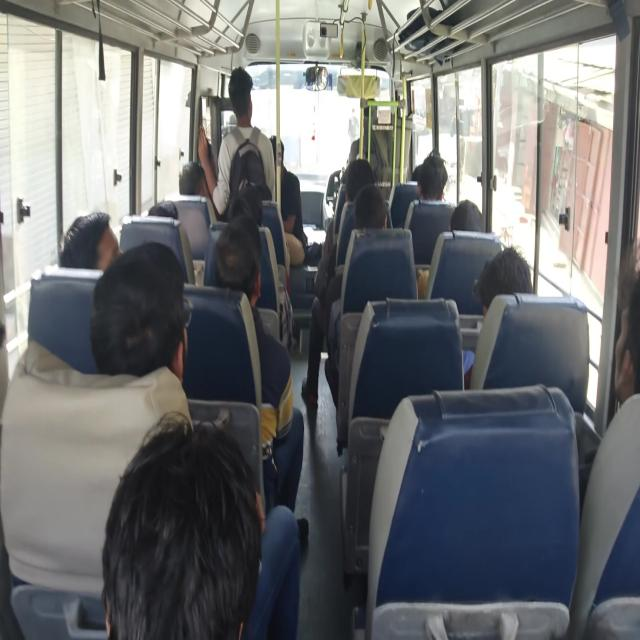person: (96, 457, 267, 640), (60, 210, 160, 278), (485, 262, 543, 343), (128, 258, 178, 351), (601, 277, 640, 394), (210, 240, 270, 314), (346, 158, 385, 218), (143, 186, 184, 240), (363, 202, 399, 250), (226, 63, 254, 124), (180, 156, 214, 198), (422, 156, 447, 205), (453, 189, 478, 233), (233, 178, 256, 215), (261, 137, 290, 163), (255, 180, 266, 197), (414, 170, 428, 180)
